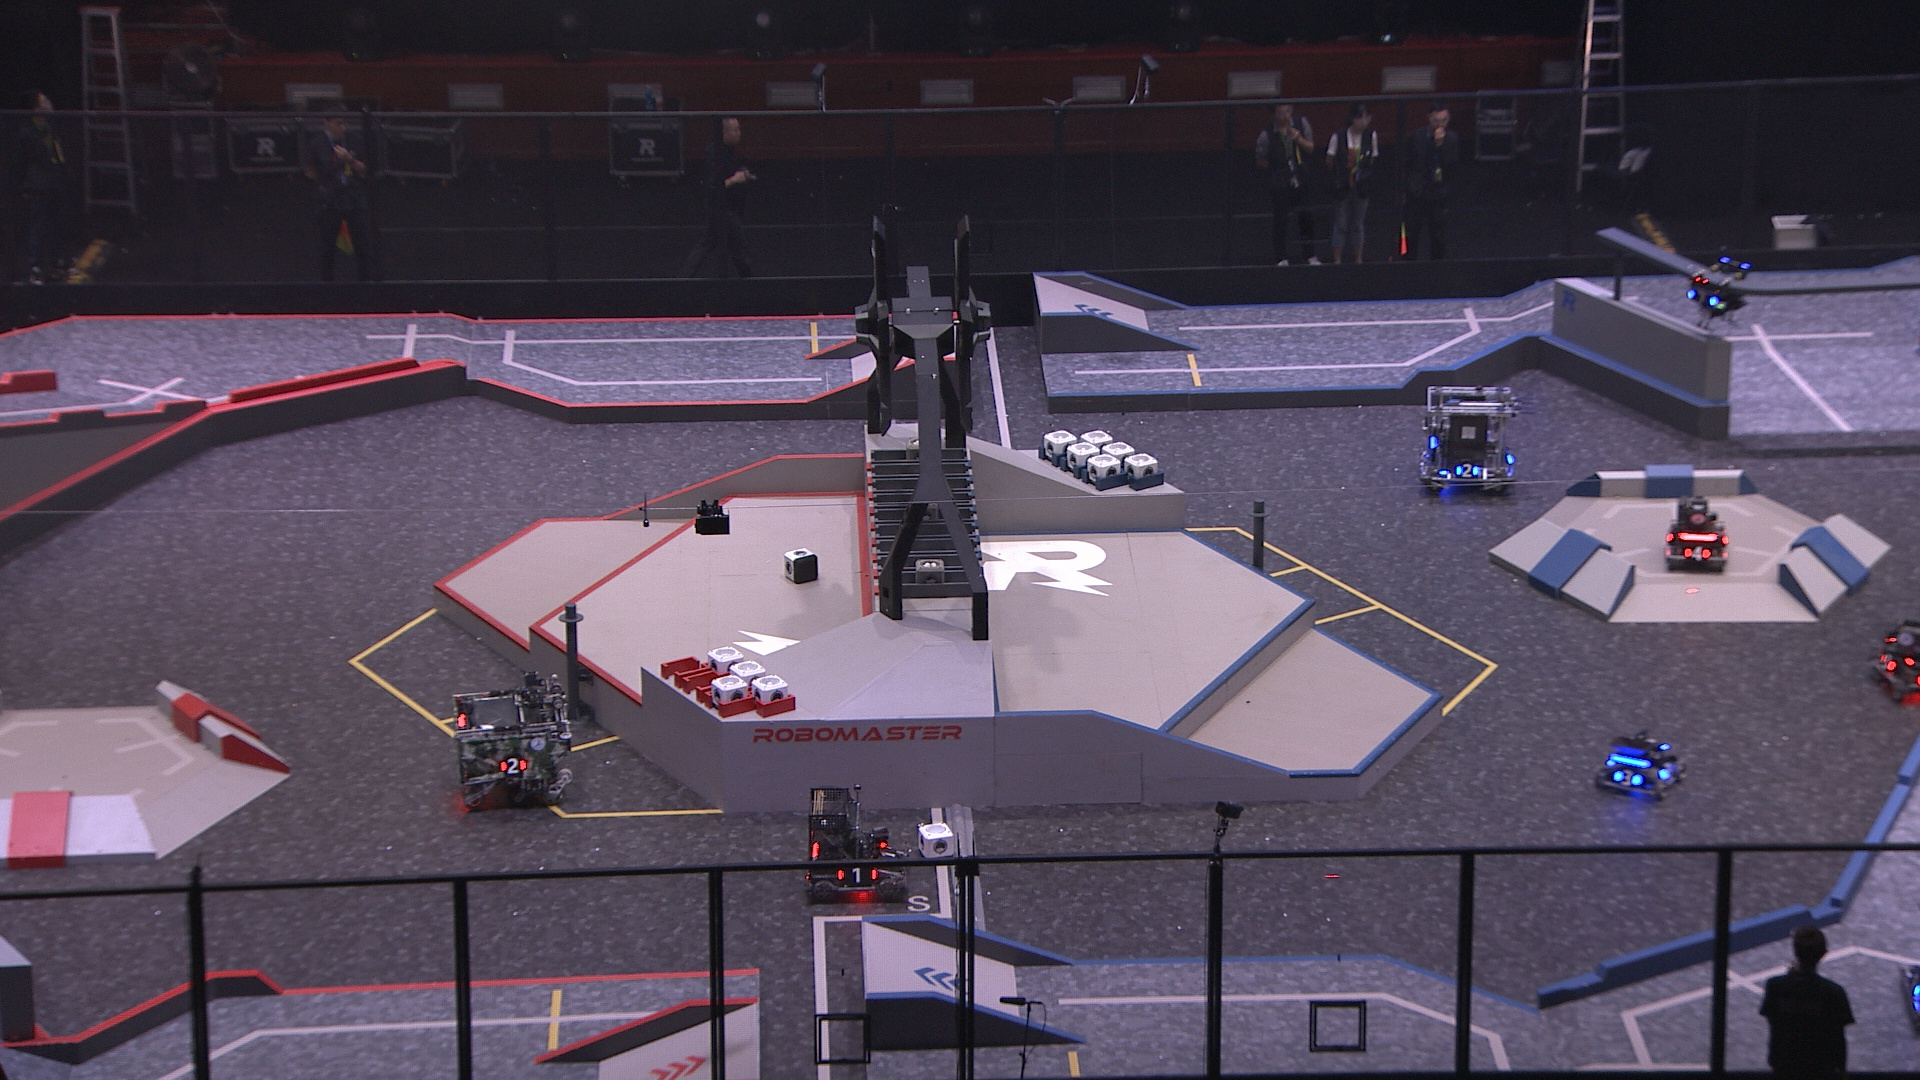armor: (832, 862, 878, 884), (493, 756, 531, 778), (1684, 286, 1717, 309), (1871, 647, 1898, 675), (1613, 766, 1644, 789), (1680, 545, 1713, 564), (1453, 460, 1484, 480), (877, 837, 898, 860), (1659, 756, 1677, 781)
car: (448, 670, 567, 812), (802, 785, 915, 907), (1416, 384, 1519, 496), (1592, 727, 1684, 802), (1865, 611, 1920, 703), (1665, 495, 1727, 572)
watcher: (1679, 239, 1756, 332)
